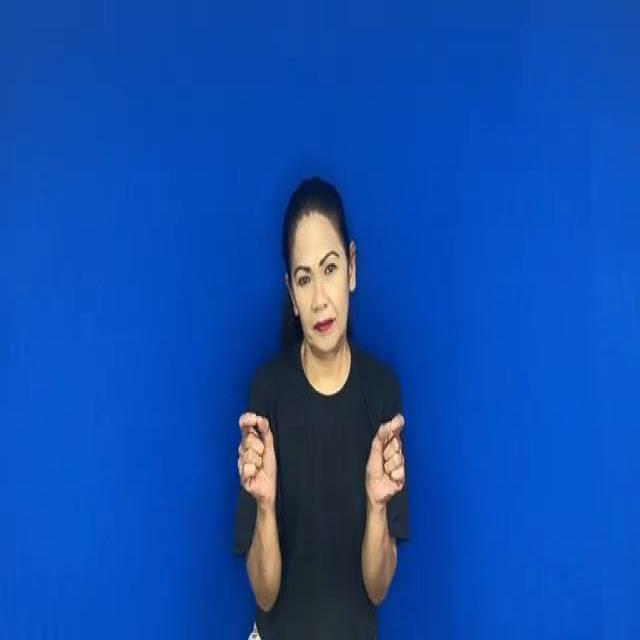crab: (227, 395, 292, 507), (363, 406, 412, 512)
